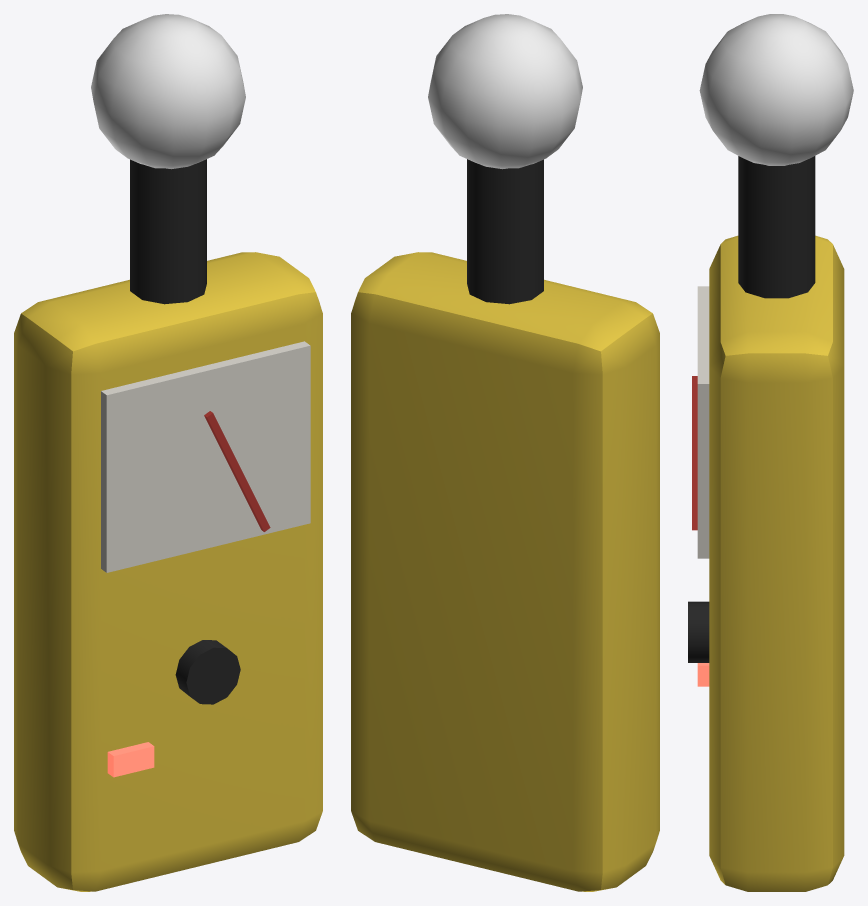
The model's file is SM_EQ_NoiseMeter.fbx.
The picture shows the model from 3 angles, left to right: view 1: azimuth 30°, elevation 25°; view 2: azimuth 150°, elevation 25°; view 3: azimuth 270°, elevation 25°; orthographic projection.
Visible parts, largest first — view 1: SM_EQ_NoiseMeter_1; view 2: SM_EQ_NoiseMeter_1; view 3: SM_EQ_NoiseMeter_1.
Part boxes in pixels (x1,y1,x2,y2): SM_EQ_NoiseMeter_1: (14,14,322,891); SM_EQ_NoiseMeter_1: (351,14,659,891); SM_EQ_NoiseMeter_1: (688,14,853,891).
Size of the model in its own units: 8 by 23.5 by 4.3.
